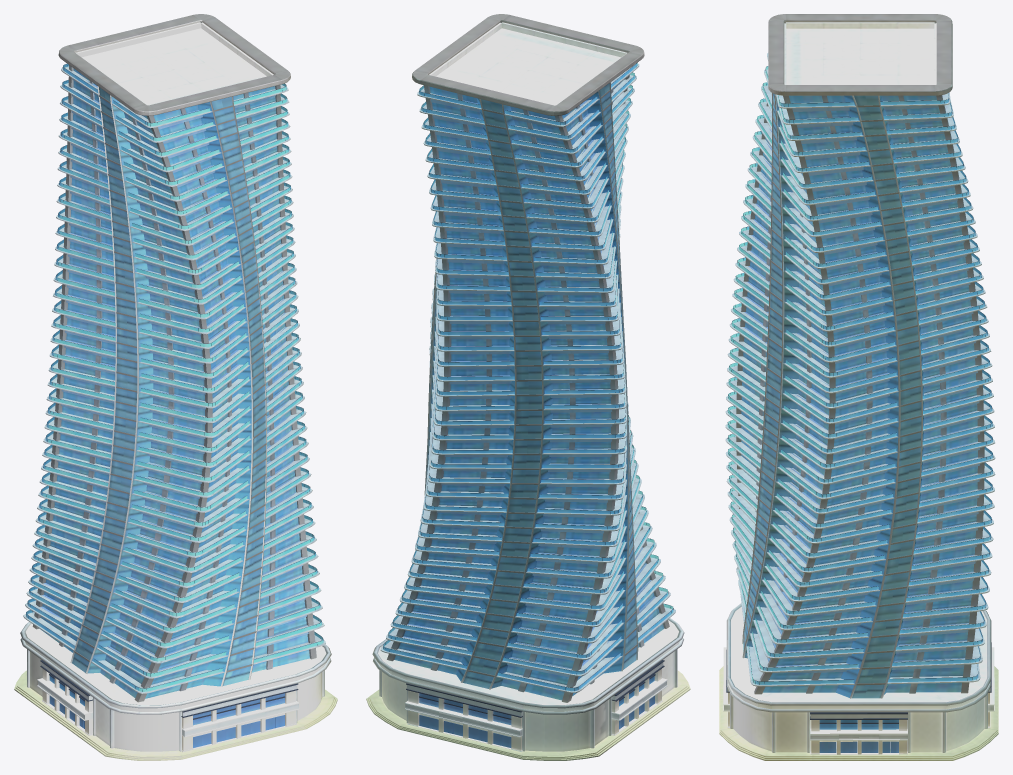
The model's file is Building_Burnaby.glb.
The picture shows the model from 3 angles, left to right: view 1: azimuth 30°, elevation 25°; view 2: azimuth 150°, elevation 25°; view 3: azimuth 270°, elevation 25°; orthographic projection. The views are drawn at different scales.
Parts seen in each view (by area): view 1: Building_02; view 2: Building_02; view 3: Building_02.
Part boxes in pixels (x1,y1,x2,y2): Building_02: [14, 14, 337, 760]; Building_02: [366, 14, 690, 760]; Building_02: [719, 14, 998, 760].
Bounding box in the file's own units: 120 × 311 × 121.
Materials: 1 (1 with a texture image).
